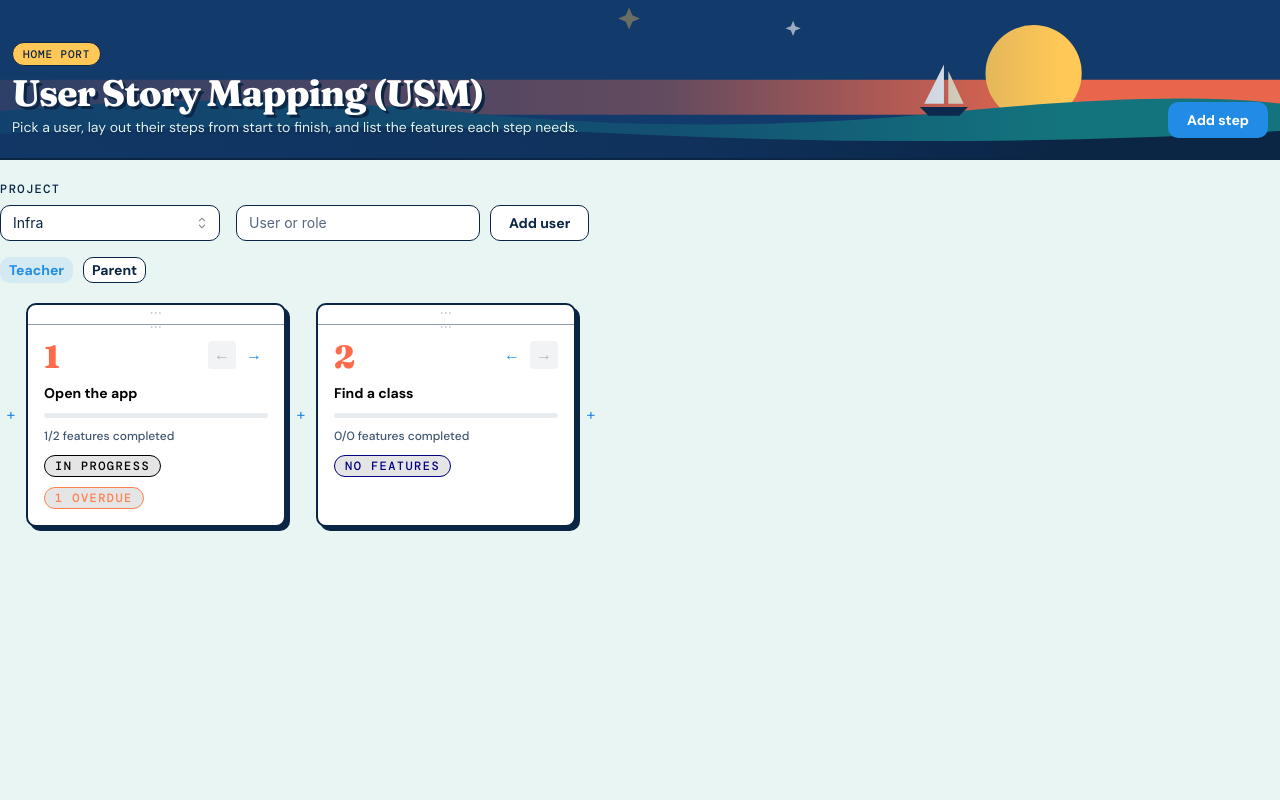
Scenario: User Story Mapping page › opens the feature checklist from a card and persists ticks, dates and new features
Later steps or results of the test are not shown.
Click the button with aria-label "Step 1: Open the app".
click(156, 415)  # box [26,303,286,527]
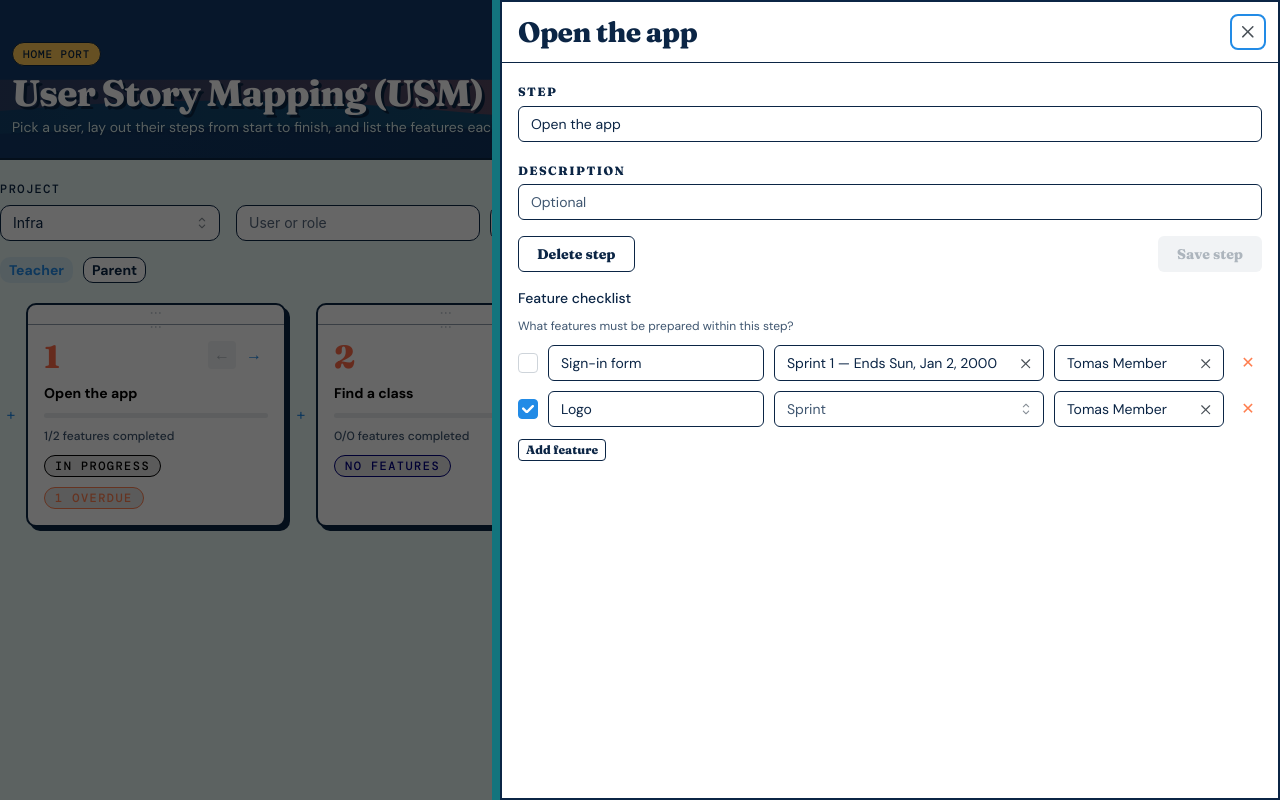
Click the checkbox named "Feature 1 done".
click(528, 363)  # box [518,353,538,373]
Click the field named "Feature 1 sprint".
click(909, 363)  # box [774,345,1044,381]
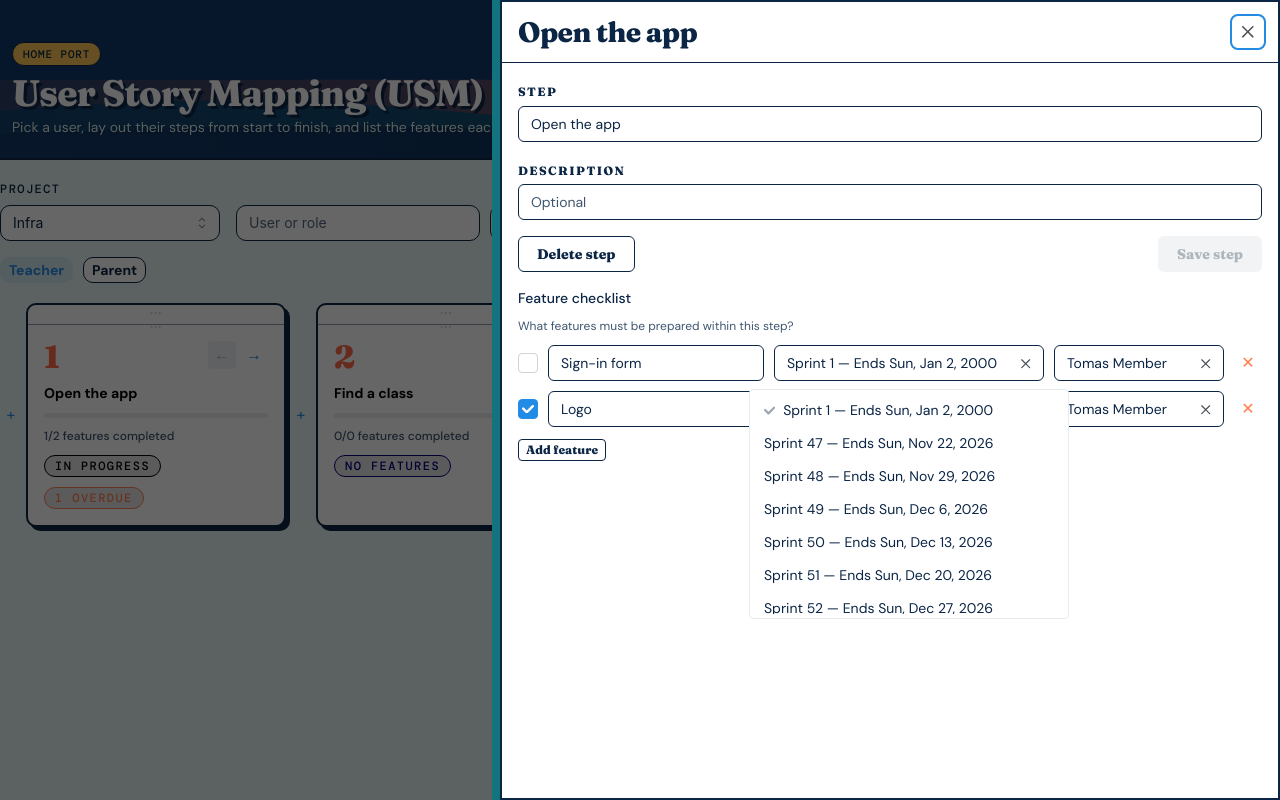
Click the option "Sprint 48 — Ends Sun, Nov 29, 2026".
click(880, 476)  # box [764,467,995,485]
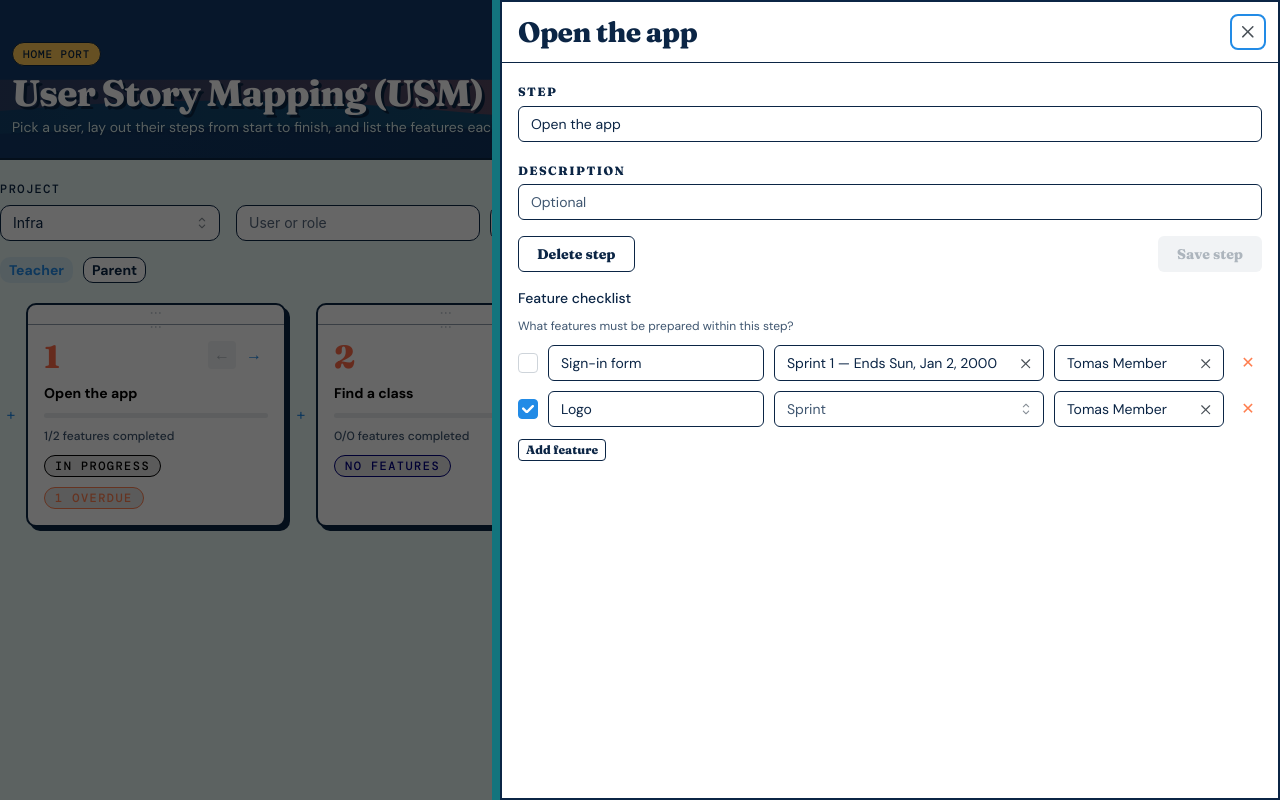
Expected: the button "Add feature" is shown, [518,439,606,461]
